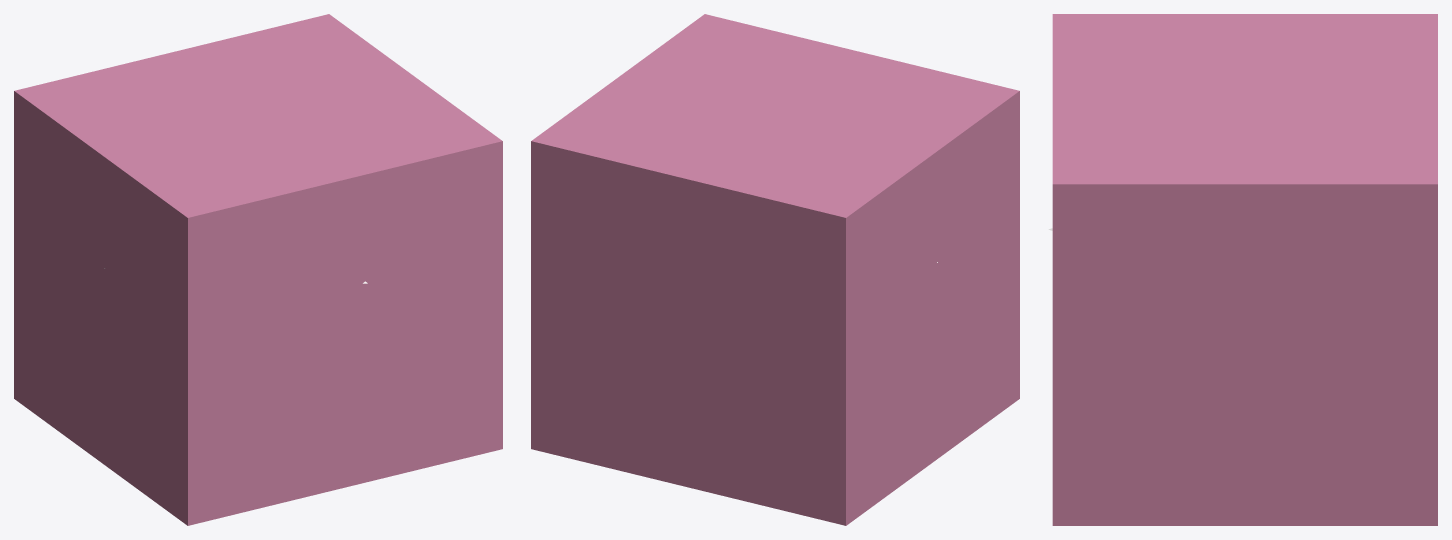
The model's file is tree_palm_e.dae.
The picture shows the model from 3 angles, left to right: view 1: azimuth 30°, elevation 25°; view 2: azimuth 150°, elevation 25°; view 3: azimuth 270°, elevation 25°; orthographic projection. The views are drawn at different scales.
Parts seen in each view (by area): view 1: Untitled; view 2: Untitled; view 3: Untitled.
Part boxes in pixels (x1,y1,x2,y2): Untitled: [14, 14, 502, 525]; Untitled: [531, 14, 1019, 525]; Untitled: [1052, 14, 1437, 525].
Bounding box in the file's own units: 5.21 × 5.02 × 4.97.
